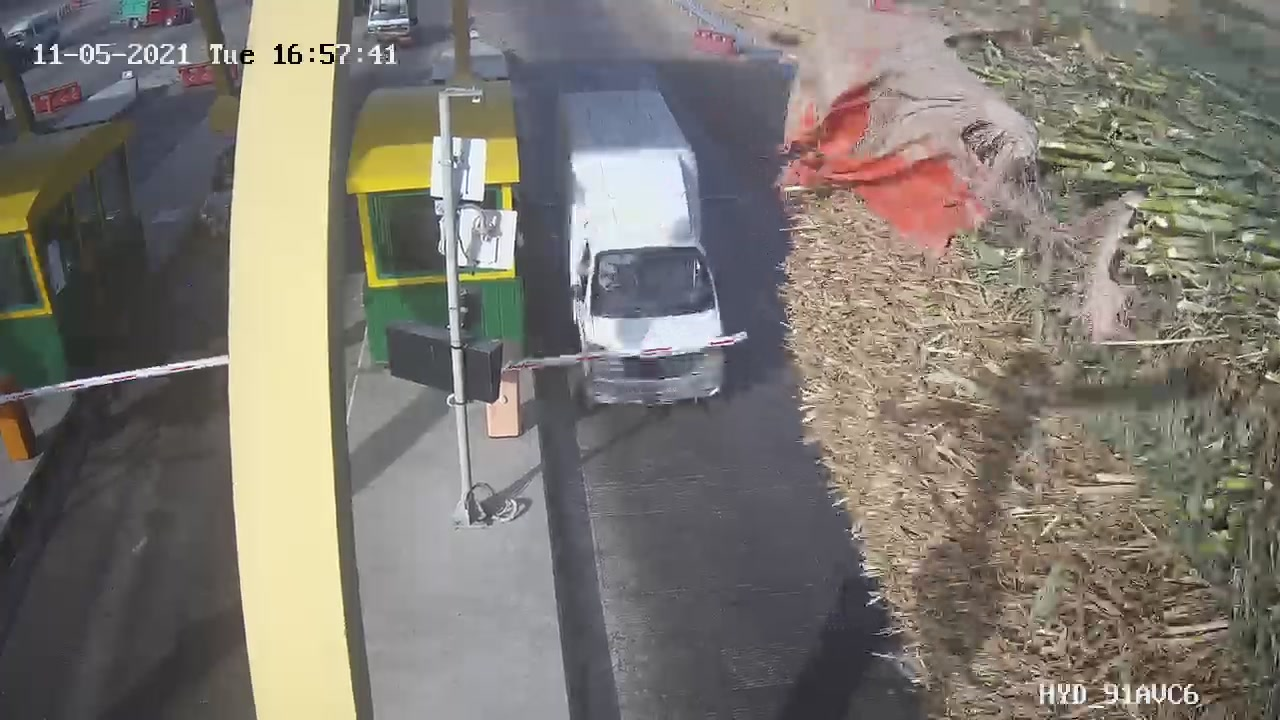F5: (531, 74, 776, 433)
